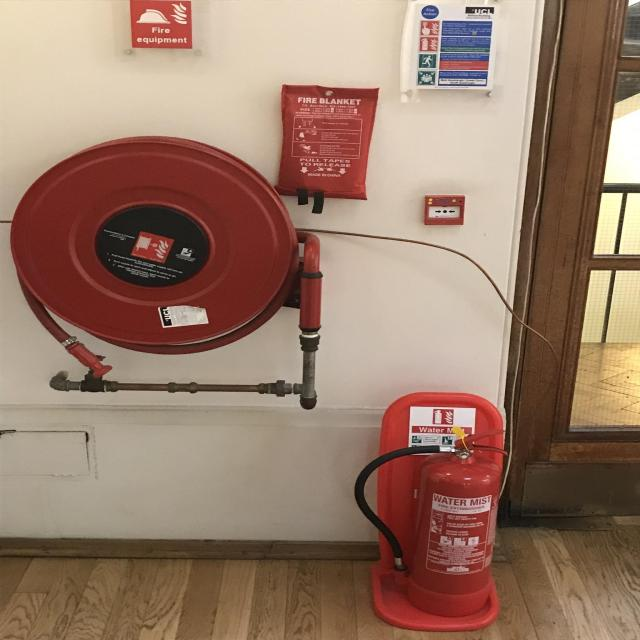fire_extinguisher: (350, 427, 509, 620)
